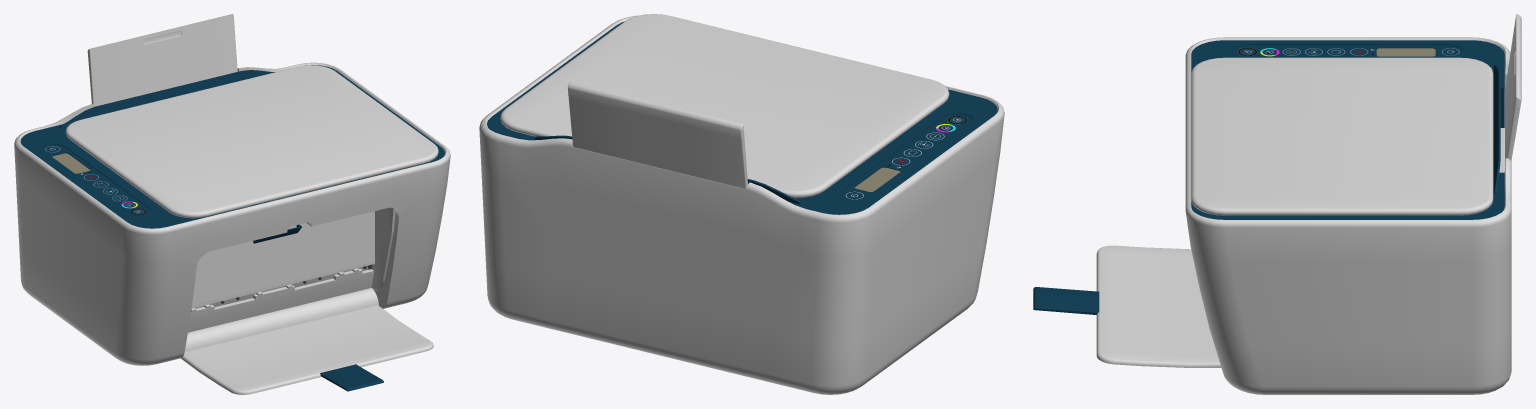
File: printer_copy_machine_and_scanner_in_one.glb
The picture shows the model from 3 angles, left to right: view 1: azimuth 30°, elevation 25°; view 2: azimuth 150°, elevation 25°; view 3: azimuth 270°, elevation 25°; orthographic projection. The views are drawn at different scales.
Visible parts, largest first — view 1: Object_6, Object_5, Object_4, Object_3, Object_2; view 2: Object_6, Object_5, Object_2, Object_3; view 3: Object_6, Object_5, Object_3, Object_2.
Boxes of the visible parts, x1,y1,x2,y2 form: Object_6: (14, 14, 450, 394); Object_5: (20, 65, 444, 391); Object_4: (195, 264, 371, 308); Object_3: (45, 146, 146, 215); Object_2: (52, 153, 90, 173); Object_6: (479, 14, 1004, 394); Object_5: (487, 22, 997, 214); Object_2: (854, 167, 900, 191); Object_3: (845, 116, 967, 199); Object_6: (1096, 14, 1521, 394); Object_5: (1033, 40, 1504, 314); Object_3: (1238, 48, 1459, 56); Object_2: (1376, 48, 1435, 56).
Size of the model in its own units: 0.9215 by 0.5875 by 1.02.
5 materials, 1 textured.
